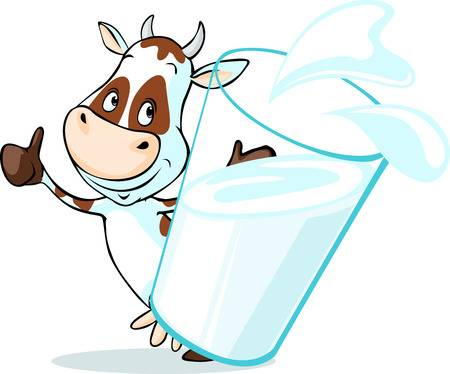glass of milk: (163, 40, 394, 356)
